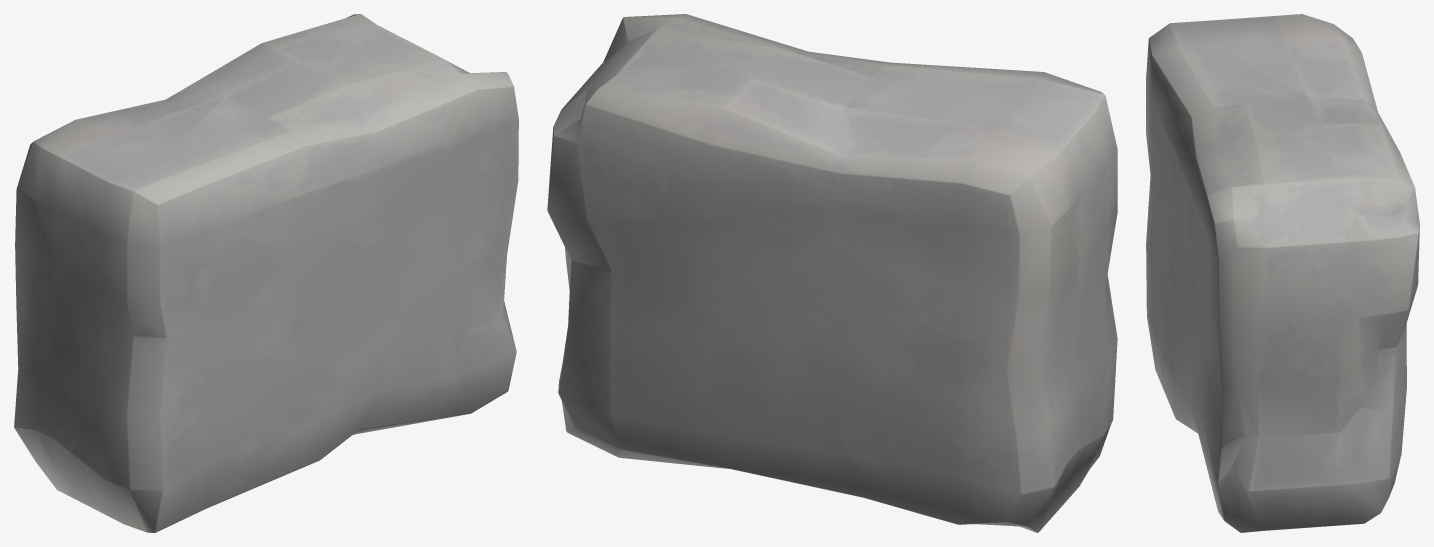
Rendered from stone1.fbx.
3 renders of one model, left to right at view 1: azimuth 30°, elevation 25°; view 2: azimuth 150°, elevation 25°; view 3: azimuth 270°, elevation 25°, orthographic. The views are drawn at different scales.
Visible parts, largest first — view 1: stone1; view 2: stone1; view 3: stone1.
Part boxes in pixels (<box>): stone1: <box>14,14,518,532</box>; stone1: <box>547,14,1117,532</box>; stone1: <box>1146,14,1419,532</box>.
Bounding box in the file's own units: 61.8 × 46.92 × 33.49.
